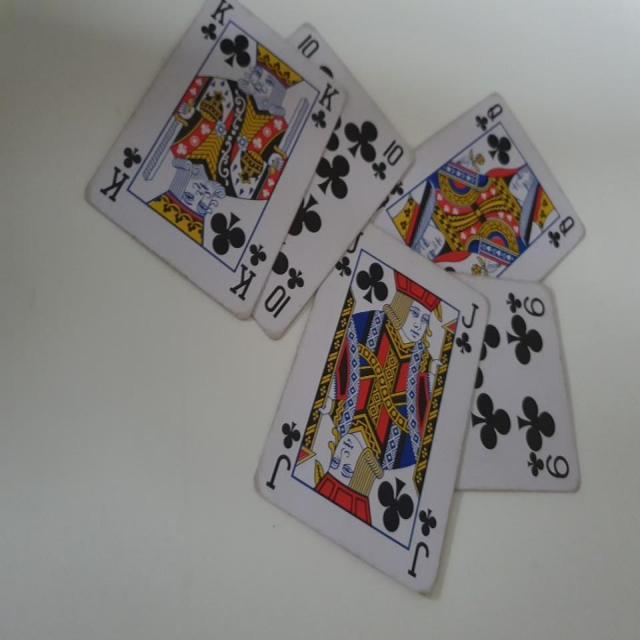10 Trefoils: (248, 18, 416, 338)
9 Trefoils: (447, 269, 582, 498)
J Trefoils: (252, 222, 485, 599)
K Trefoils: (84, 1, 348, 322)
Q Trefoils: (370, 92, 587, 281)
